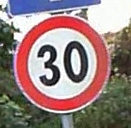limite 30: (12, 14, 111, 113)
